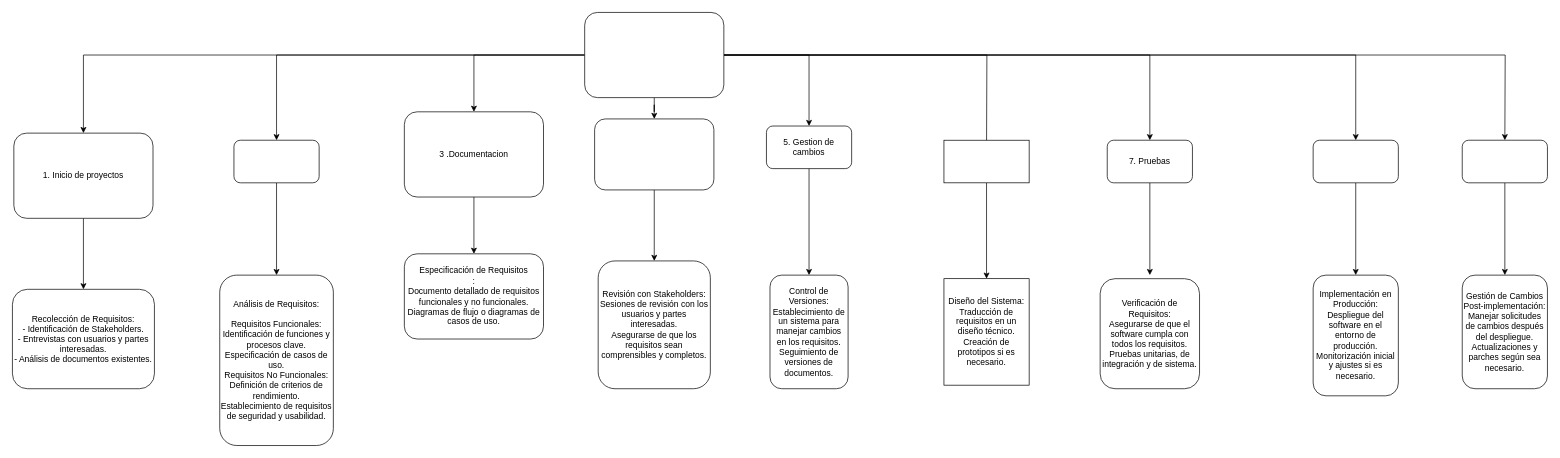
The diagram is 1560 pixels wide and 458 high, and some of its shapes have lost their labels. The box of each missing label's shape, as (x1, y1, x2, y2) in pixels:
2. Análisis de Requisitos:: (233, 140, 319, 183)
4. Validación de requisitos: (594, 118, 714, 190)
6. Implementacion y desarrollo: (943, 140, 1029, 183)
8. Despliegue: (1312, 140, 1398, 183)
9. mantenimiento: (1462, 140, 1547, 183)
Ciclo de Vida del Software: Identificación y Caracterización de Requisitos: (584, 12, 724, 98)
